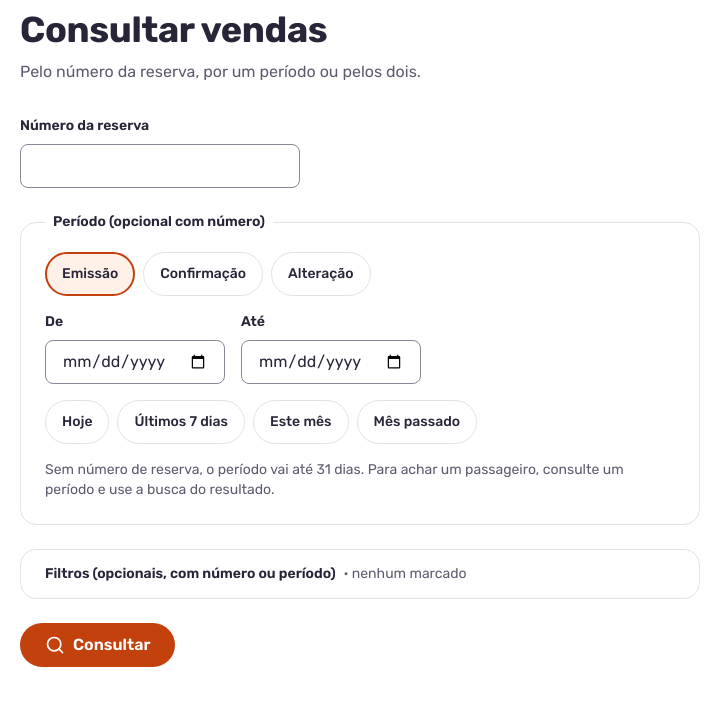
Test: a mensagem do campo fica ligada a ele por aria-describedby e some ao editar
The width and height of the screenshot is (717, 712).
Click the button "Consultar" at [98, 645], box [20,623,175,667]
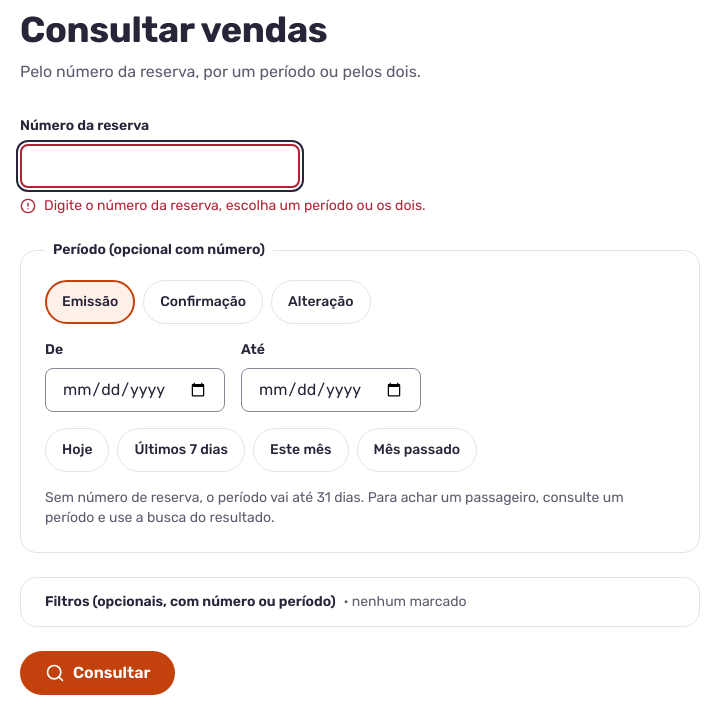
Type "9" into the field labelled "Número da reserva" at [160, 166], box [20,144,300,188]
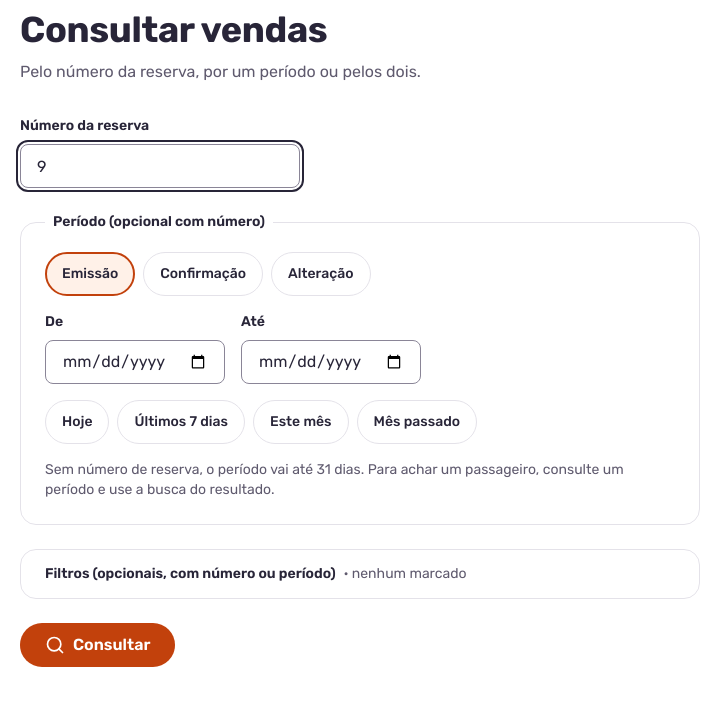
Expected: the text "Digite o número da reserva, escolha" is gone
